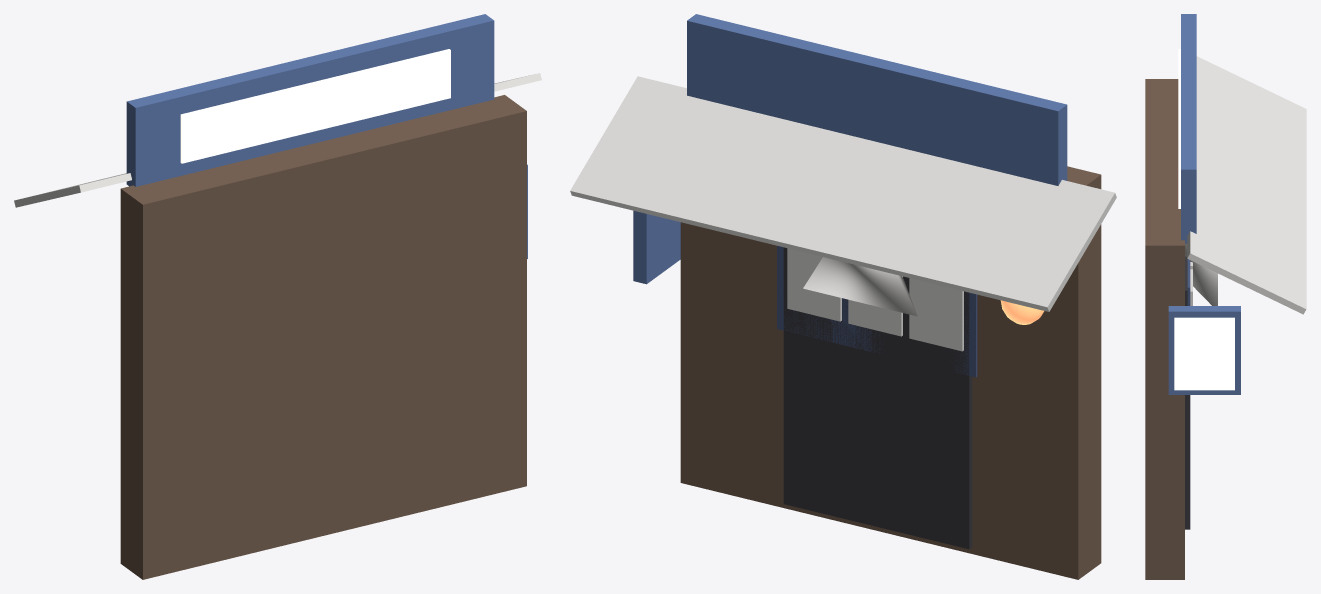
File: prop_mise_sento.glb
The picture shows the model from 3 angles, left to right: view 1: azimuth 30°, elevation 25°; view 2: azimuth 150°, elevation 25°; view 3: azimuth 270°, elevation 25°; orthographic projection. The views are drawn at different scales.
Parts seen in each view (by area): view 1: mise_sento; view 2: mise_sento; view 3: mise_sento.
Part boxes in pixels (x1,y1,x2,y2): mise_sento: (14, 14, 541, 579); mise_sento: (570, 14, 1116, 579); mise_sento: (1145, 14, 1306, 579).
Bounding box in the file's own units: 3.6 × 3.39 × 1.22.
